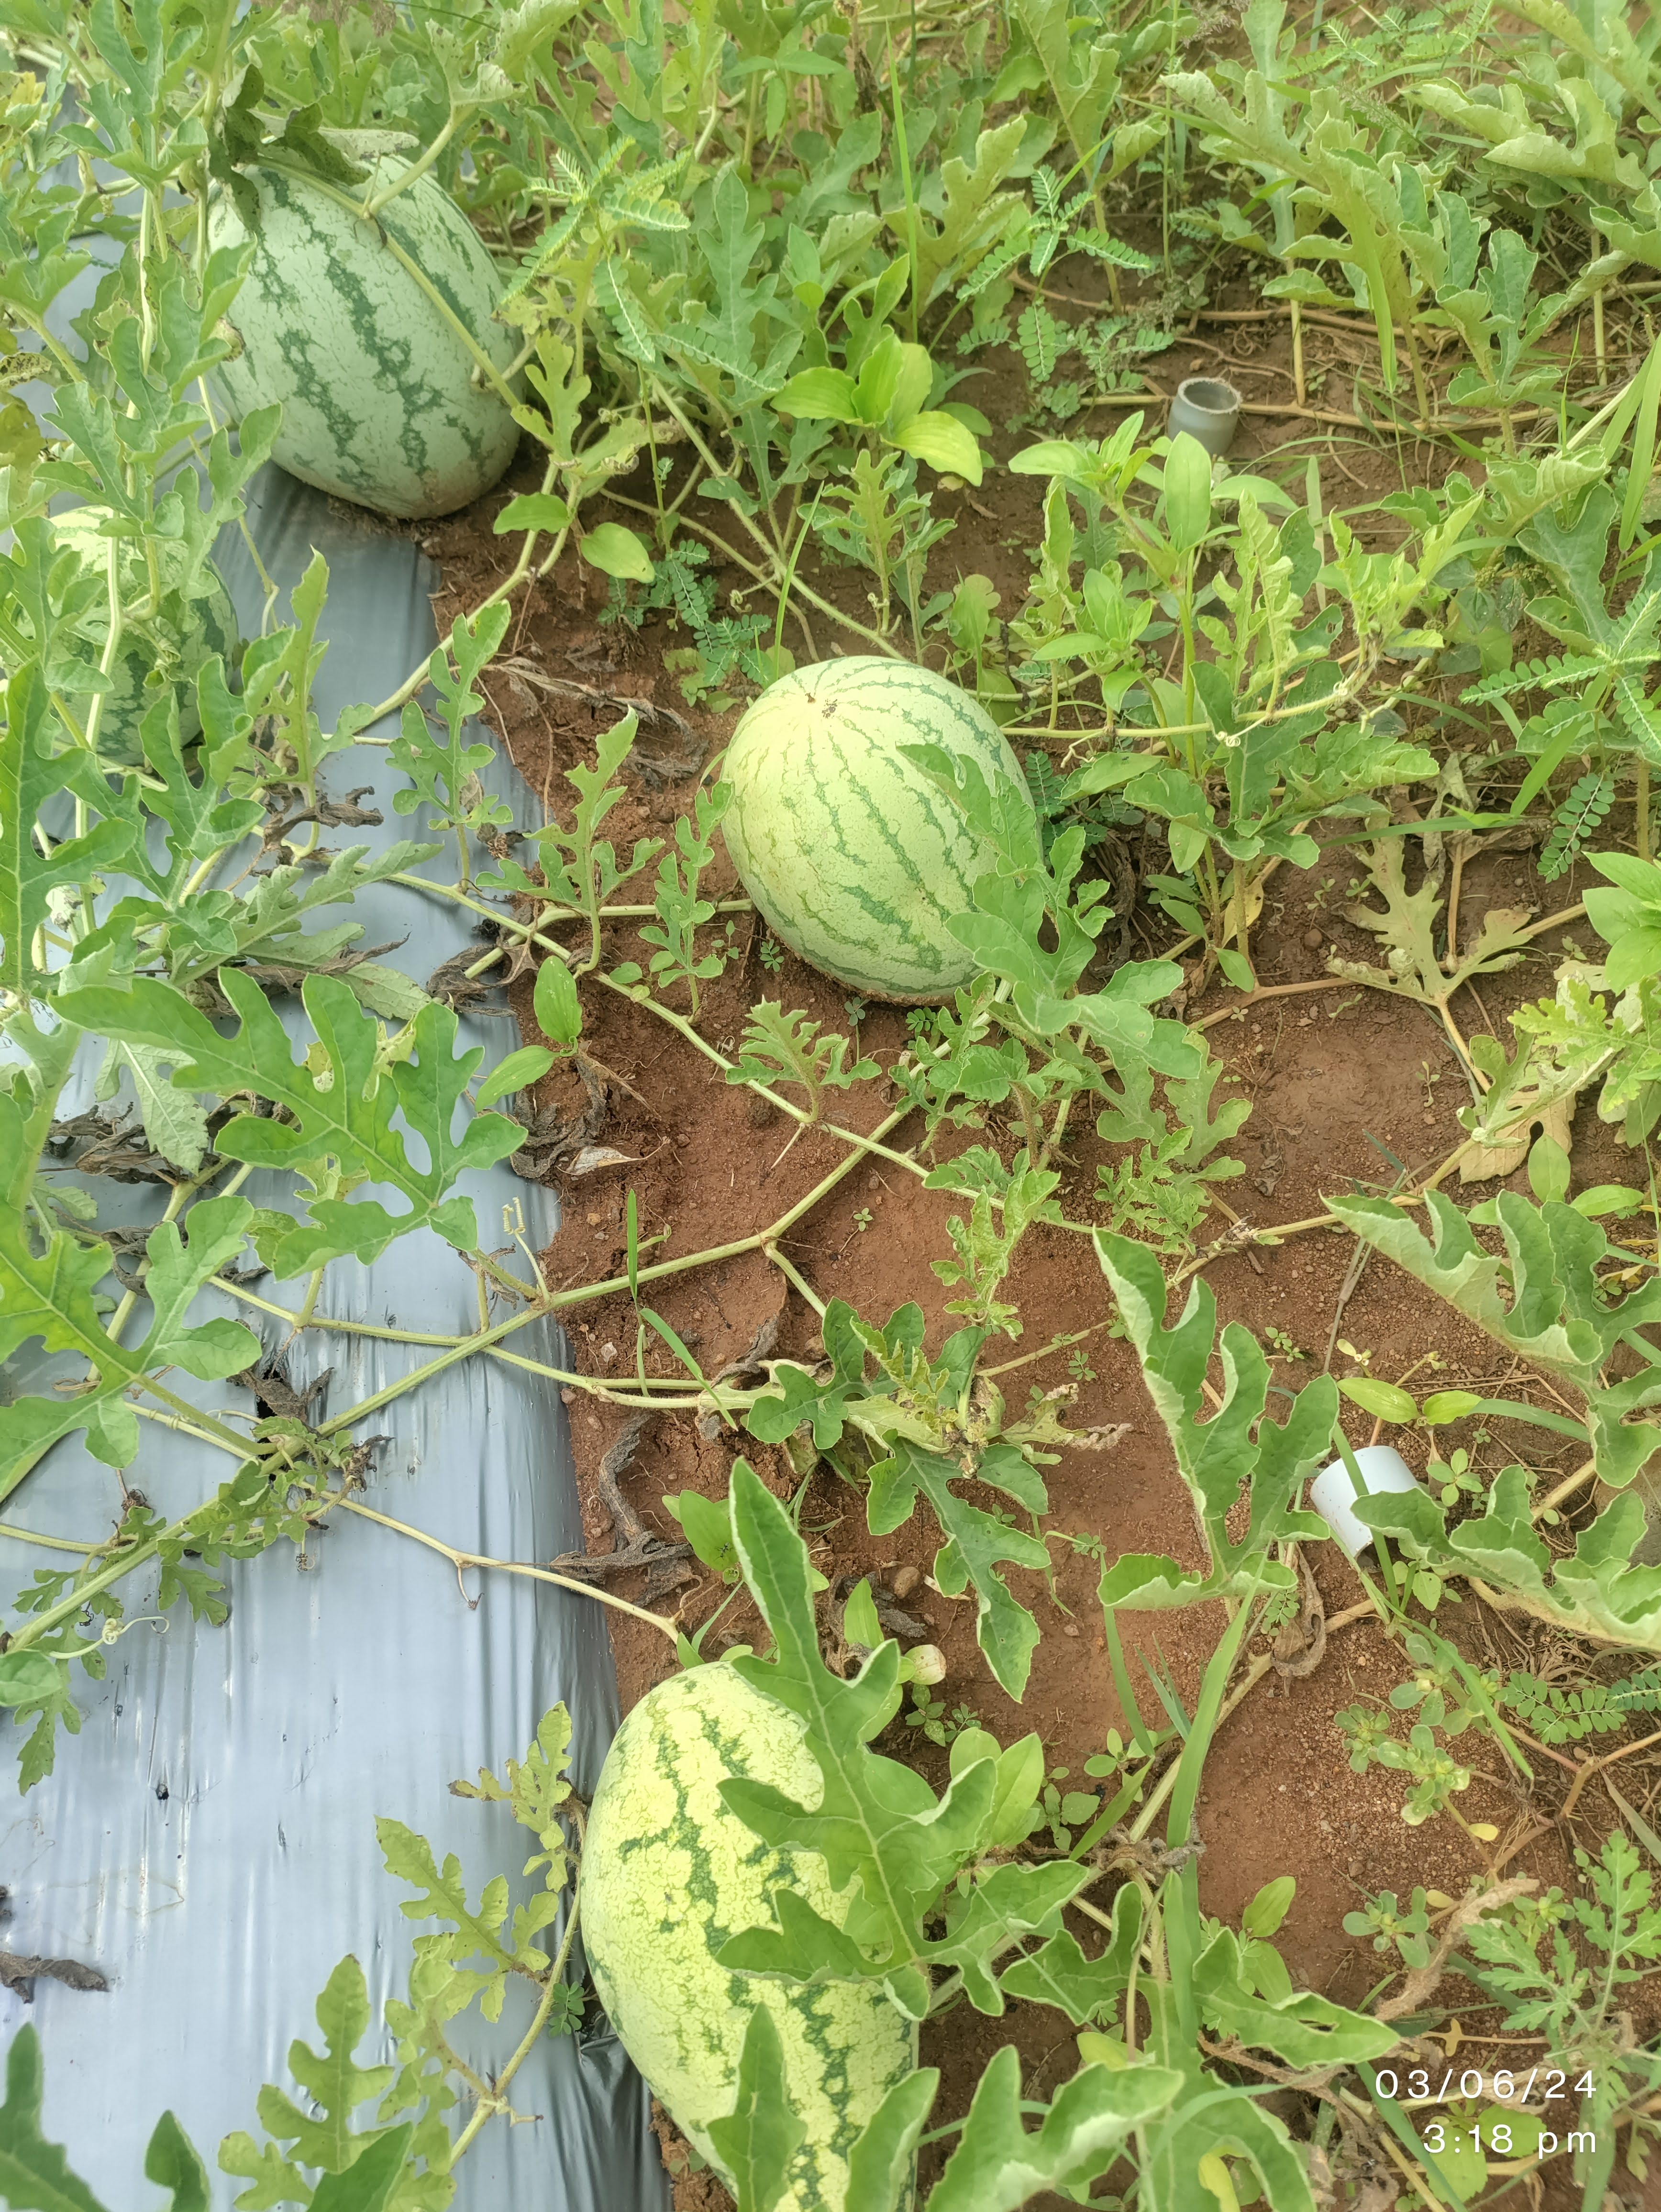good-to-harvest: (640, 630, 1124, 1047), (140, 87, 598, 518)
not-good-to-harvest: (480, 1624, 1047, 2209)
